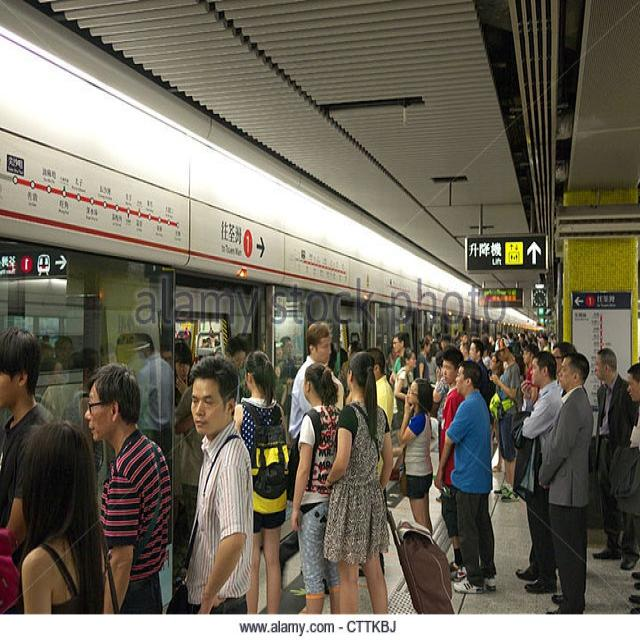body: (5, 304, 207, 442), (81, 356, 172, 639), (164, 353, 256, 614), (16, 417, 123, 639), (320, 347, 398, 639), (313, 314, 579, 391), (535, 351, 597, 617), (431, 357, 499, 597), (233, 348, 291, 614), (508, 346, 565, 595), (0, 325, 56, 570), (291, 364, 342, 616), (590, 346, 630, 560), (224, 322, 303, 418), (605, 360, 640, 572), (438, 347, 469, 584), (287, 320, 345, 444), (395, 375, 435, 536), (488, 335, 525, 503), (375, 390, 396, 490)
